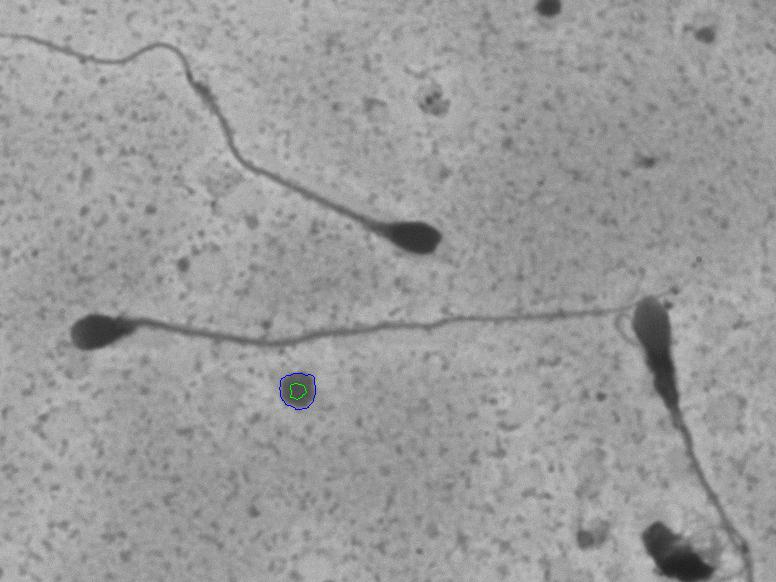Abnormal: (70, 17, 465, 256), (47, 258, 638, 388), (545, 273, 760, 531)
